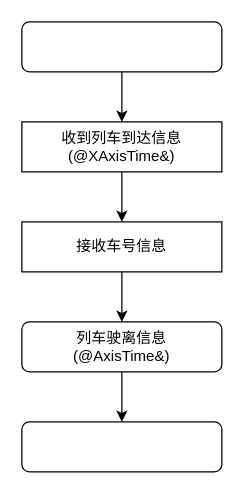
The diagram is 244 pixels wide and 494 high, and some of its shapes have lost their labels. Here are the shapes that lost their labels. From the top down, the box of each, then its label:
(21, 21, 222, 72): 开始
(21, 421, 222, 472): 结束
